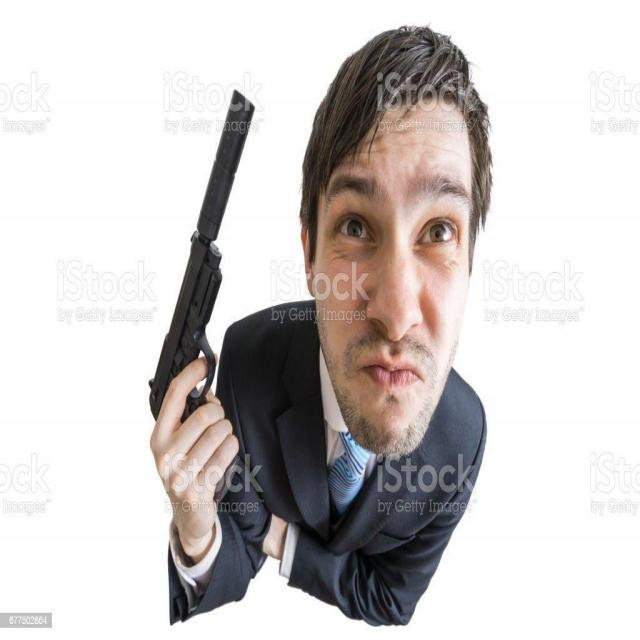gun: (150, 92, 256, 494)
